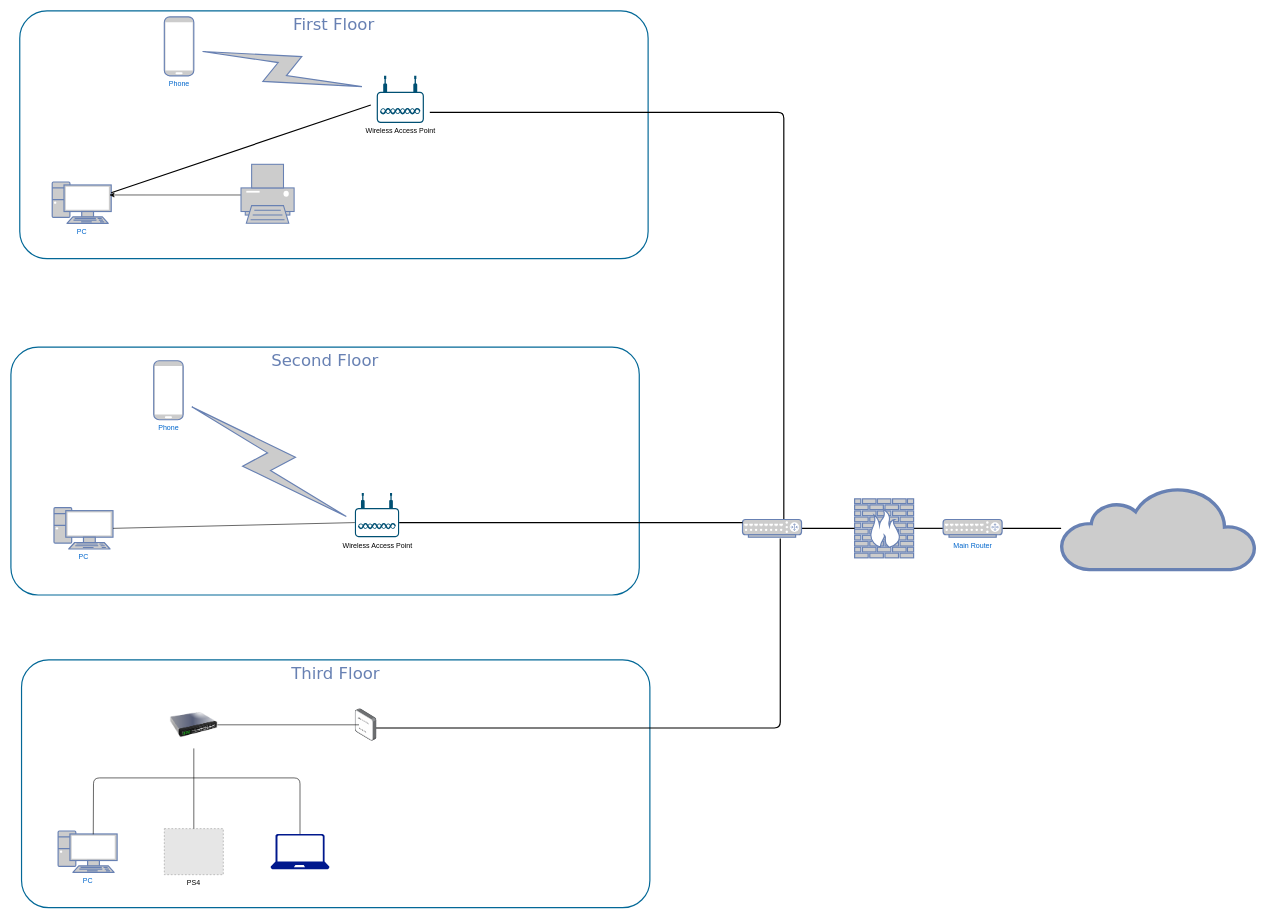
Some shapes in this 1266 by 918 pixel diagram are drawn without their labels. Grey dashed boxes stand in for pictures. The shapes that lost their labels are listed below. From the top down, each one's centre as x and y in pixels, then its label:
the point at 267,193: Printer
the point at 772,528: Router
the point at 1158,528: Internet
the point at 193,724: Switch
the point at 365,724: Access Point
the point at 299,851: Laptop
